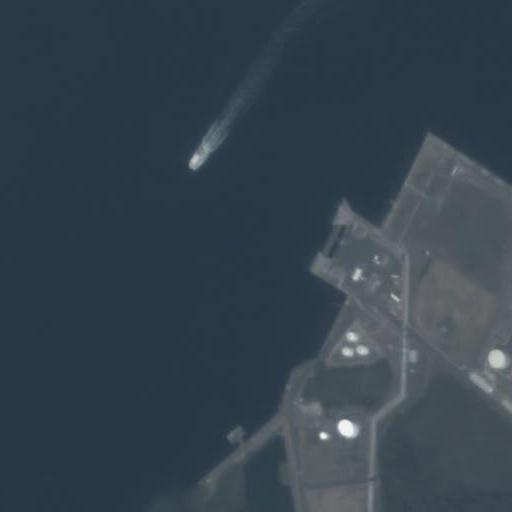person: (188, 153, 202, 170)
